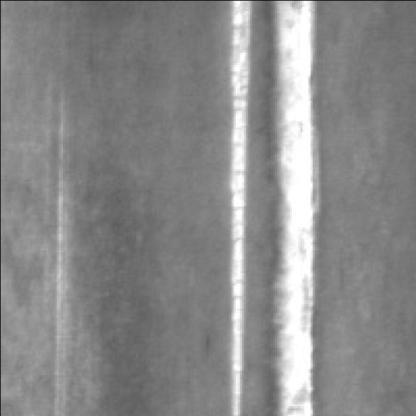scratches: (266, 0, 318, 412), (222, 0, 252, 412), (48, 81, 68, 412)
